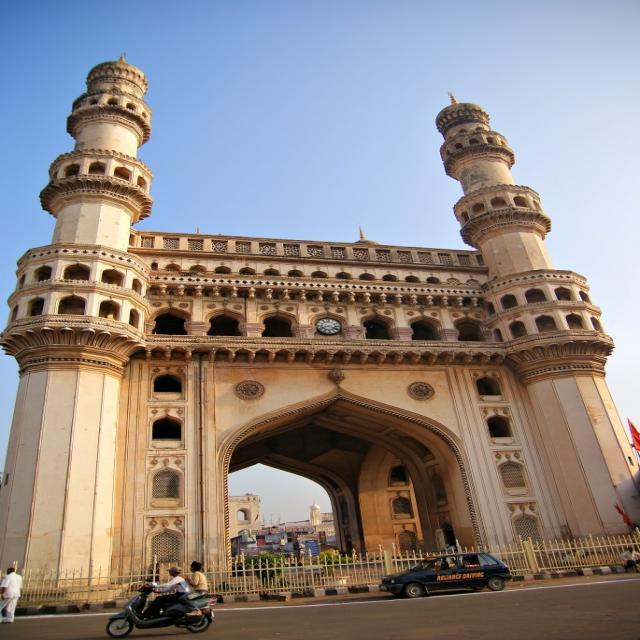bus: (110, 586, 214, 634)
